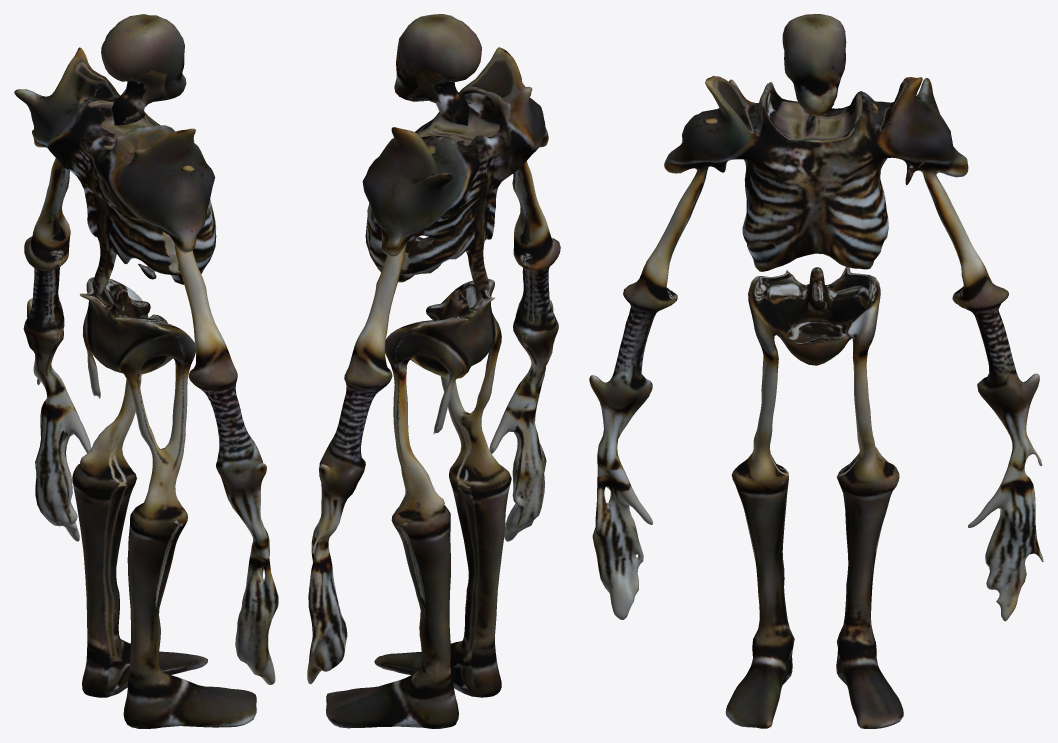
The model's file is Skeleton 4.fbx.
The picture shows the model from 3 angles, left to right: view 1: azimuth 30°, elevation 25°; view 2: azimuth 150°, elevation 25°; view 3: azimuth 270°, elevation 25°; orthographic projection. The views are drawn at different scales.
Visible parts, largest first — view 1: mesh; view 2: mesh; view 3: mesh.
Boxes of the visible parts, x1=… form: mesh: x1=14, y1=14, x2=278, y2=728; mesh: x1=307, y1=14, x2=560, y2=728; mesh: x1=589, y1=14, x2=1043, y2=728.
Size of the model in its own units: 24.25 by 99.95 by 61.
